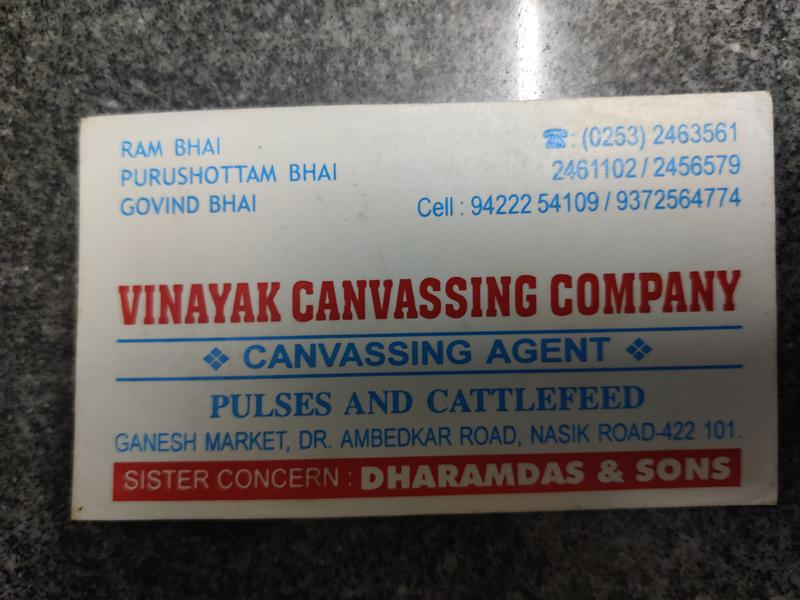card: (68, 85, 784, 525)
